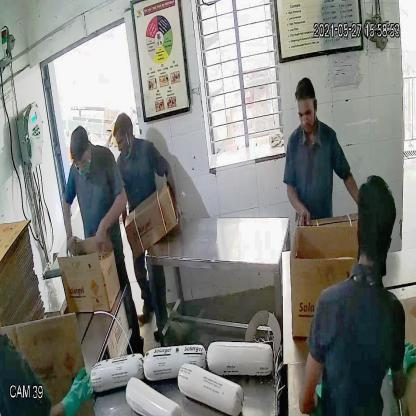no_goggles: (297, 104, 318, 125)
